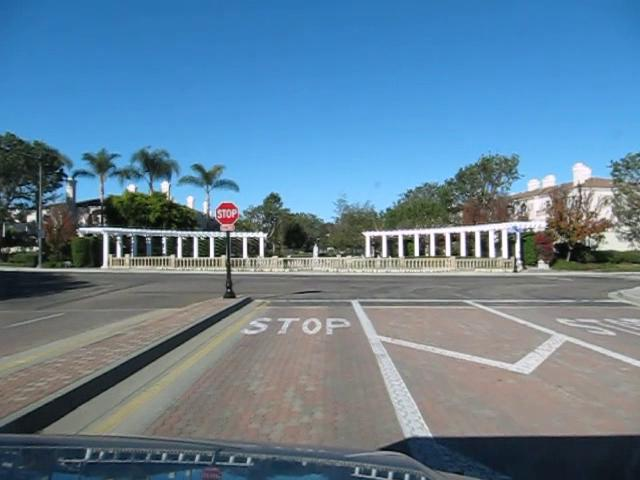stop: (214, 201, 239, 226)
